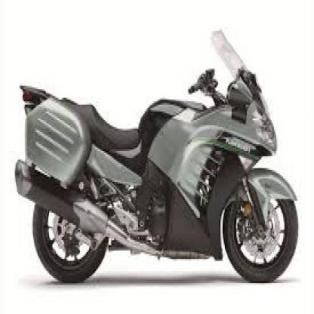Motocicleta: (11, 29, 303, 290)
